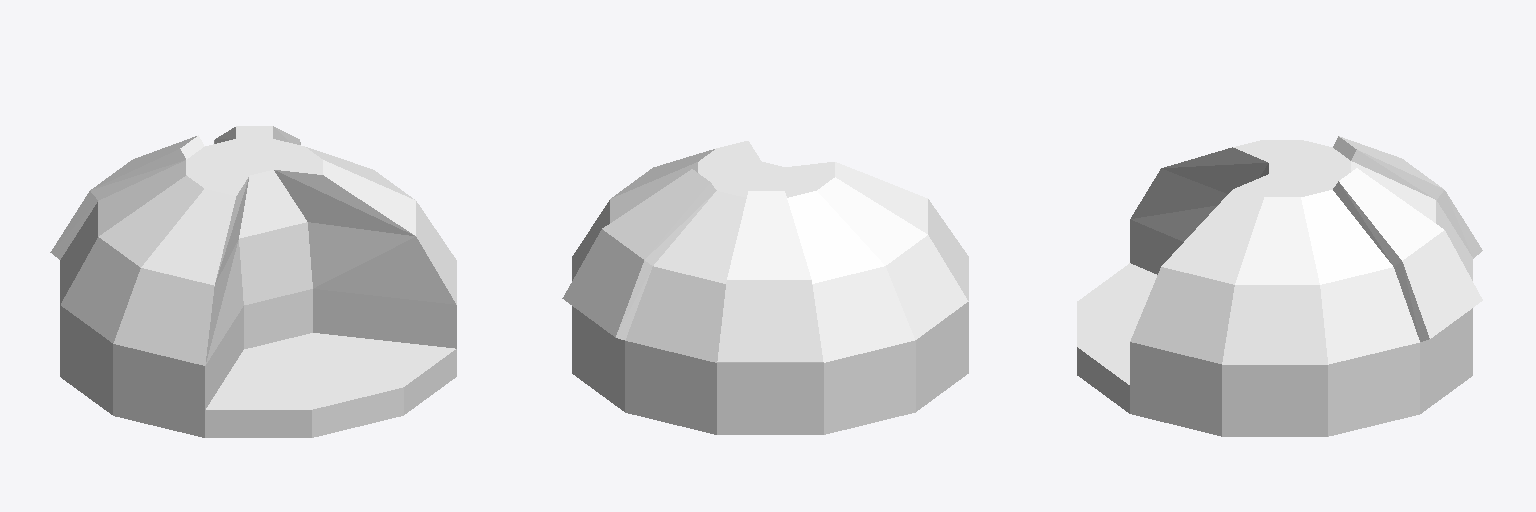
The model's file is UprightTurret.obj.
3 renders of one model, left to right at view 1: azimuth 30°, elevation 25°; view 2: azimuth 150°, elevation 25°; view 3: azimuth 270°, elevation 25°, orthographic.
Visible parts, largest first — view 1: RearTurret; view 2: RearTurret; view 3: RearTurret.
Part boxes in pixels (left/top/right/bottom): RearTurret: left=50, top=126, right=456, bottom=437; RearTurret: left=562, top=141, right=968, bottom=434; RearTurret: left=1077, top=136, right=1482, bottom=436.
Bounding box in the file's own units: 29.19 × 15.81 × 29.93.